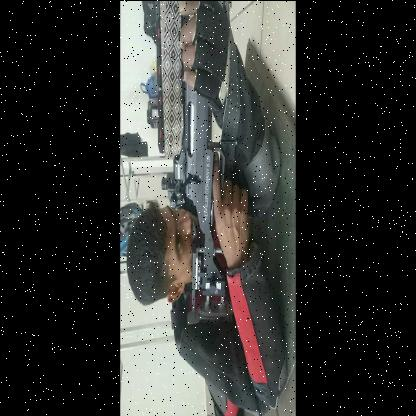rifle: (160, 0, 238, 330)
